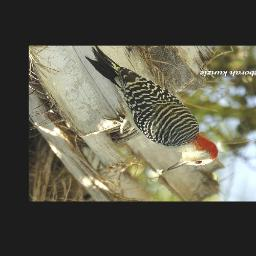Woodpecker: (83, 46, 223, 172)
